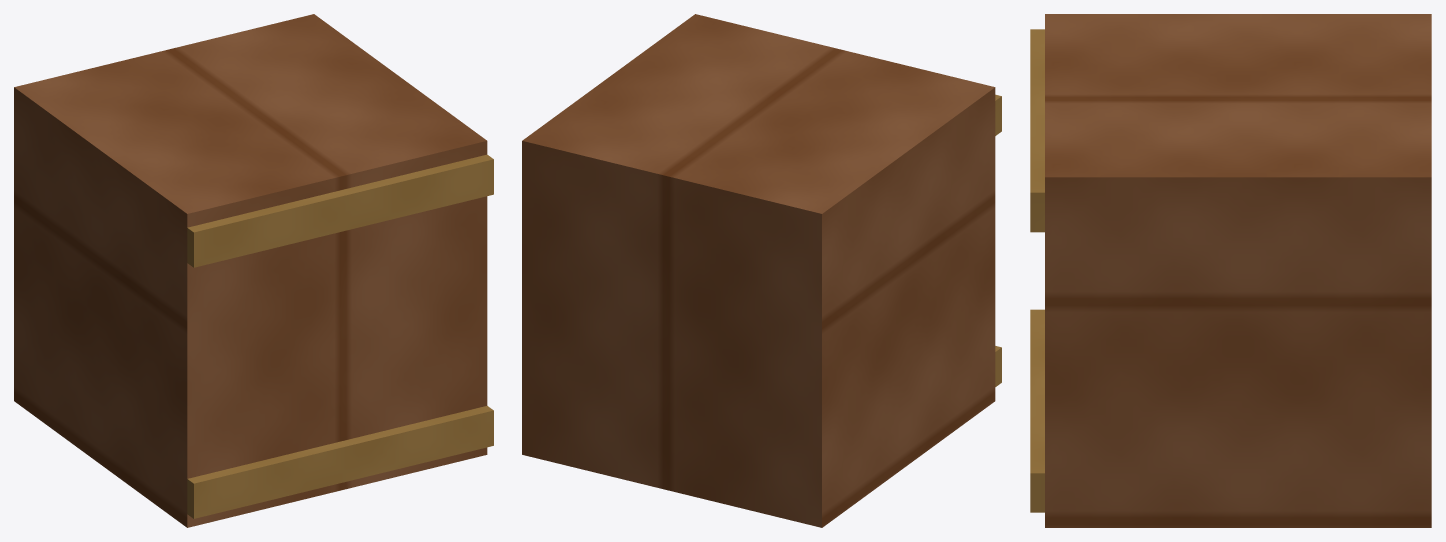
The model's file is wood_crate.obj.
3 views of the same model, side by side, from view 1: azimuth 30°, elevation 25°; view 2: azimuth 150°, elevation 25°; view 3: azimuth 270°, elevation 25° (orthographic). The views are drawn at different scales.
Visible parts, largest first — view 1: wood_crate; view 2: wood_crate; view 3: wood_crate.
Part boxes in pixels (<box>): wood_crate: <box>14,14,493,527</box>; wood_crate: <box>522,14,1001,527</box>; wood_crate: <box>1030,14,1431,527</box>.
Bounding box in the file's own units: 0.8 × 0.8 × 0.83.
2 materials, 2 textured.
